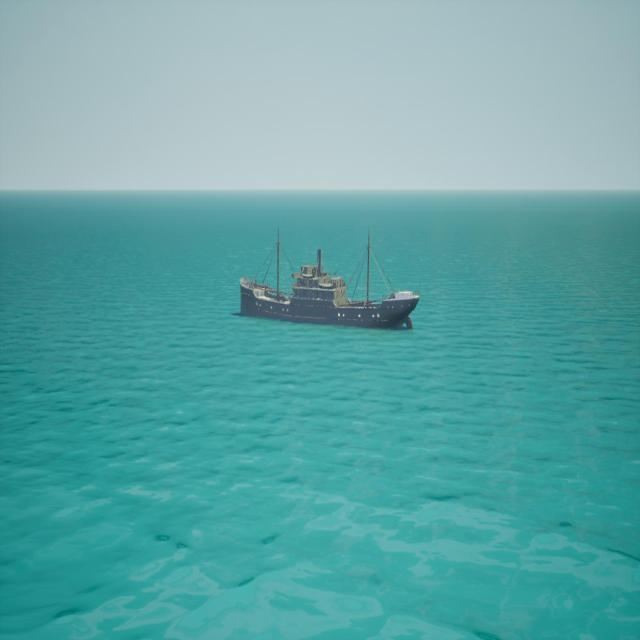fishing ship: (241, 228, 420, 331)
